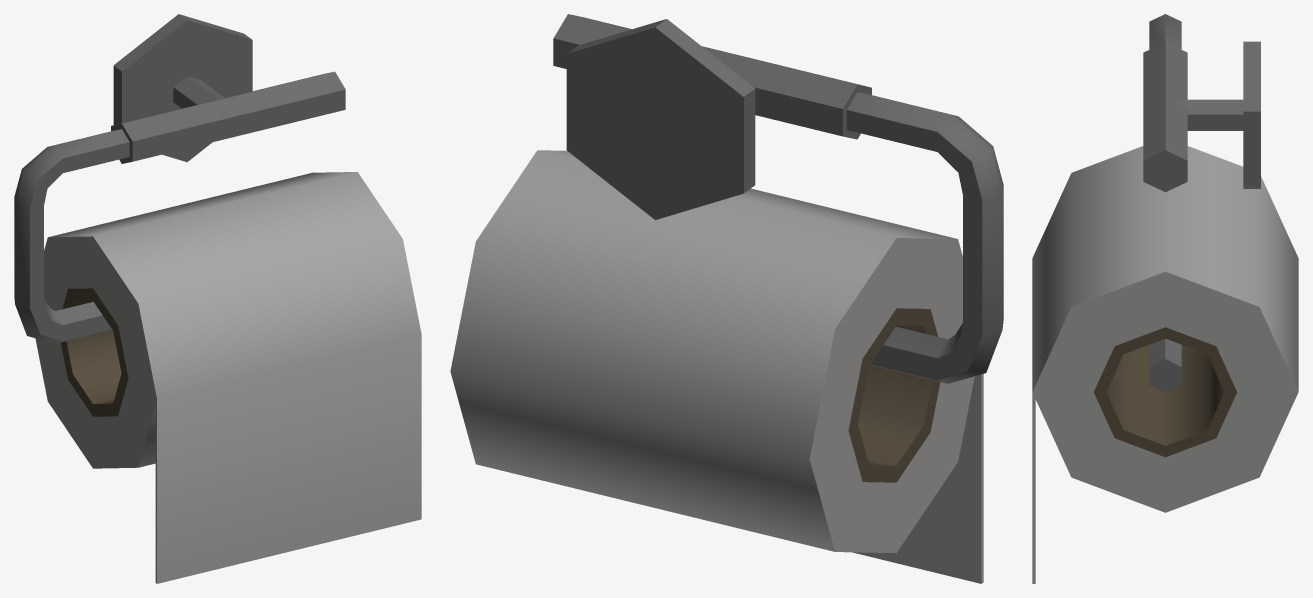
Rendered from Bathroom_ToiletPaper.glb.
3 renders of one model, left to right at view 1: azimuth 30°, elevation 25°; view 2: azimuth 150°, elevation 25°; view 3: azimuth 270°, elevation 25°, orthographic. The views are drawn at different scales.
Visible parts, largest first — view 1: Bathroom_ToiletPaper_Cylinder.009; view 2: Bathroom_ToiletPaper_Cylinder.009; view 3: Bathroom_ToiletPaper_Cylinder.009.
Part boxes in pixels (bbox=[...]): Bathroom_ToiletPaper_Cylinder.009: bbox=[14, 14, 421, 583]; Bathroom_ToiletPaper_Cylinder.009: bbox=[450, 14, 1003, 583]; Bathroom_ToiletPaper_Cylinder.009: bbox=[1032, 14, 1298, 583].
Bounding box in the file's own units: 0.2999 × 0.3444 × 0.1749.
